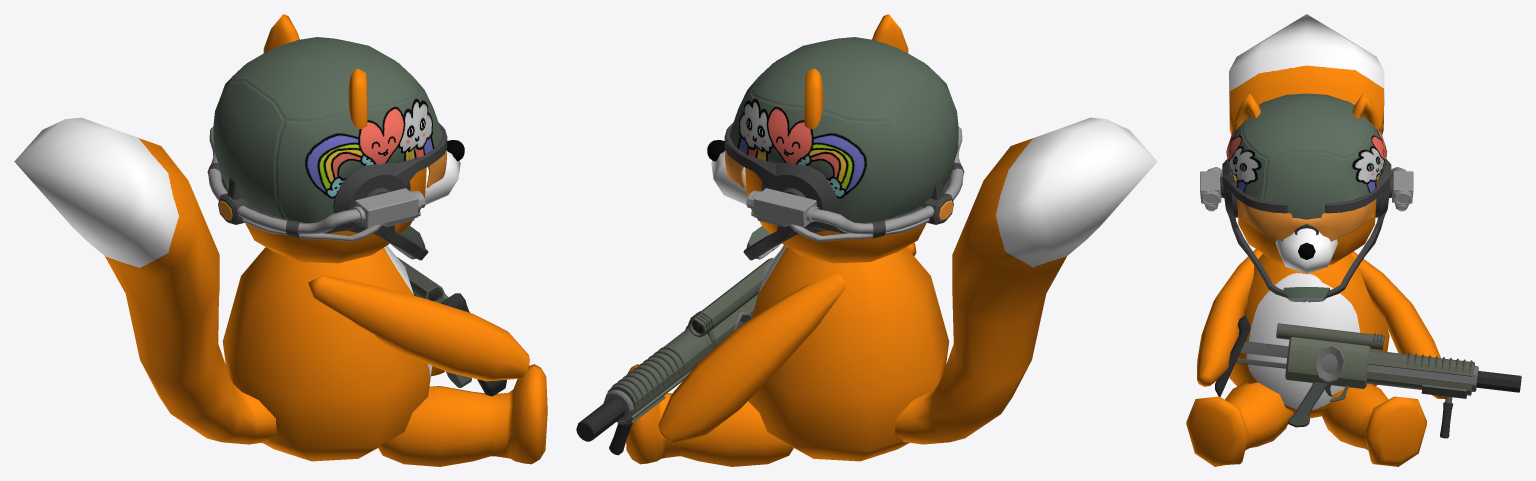
File: TheEverSoSlightlyFantasticMrFox_FluffyArmy.fbx
3 renders of one model, left to right at view 1: azimuth 30°, elevation 25°; view 2: azimuth 150°, elevation 25°; view 3: azimuth 270°, elevation 25°, orthographic. The views are drawn at different scales.
Visible parts, largest first — view 1: pCube28, polySurface45, polySurface48, polySurface40, polySurface42, polySurface98, polySurface118, polySurface99, polySurface95, polySurface100; view 2: pCube28, polySurface45, polySurface48, polySurface46, polySurface118, polySurface39, polySurface98, polySurface100, polySurface95, polySurface99; view 3: pCube28, polySurface118, polySurface48, polySurface45, polySurface42, polySurface39, polySurface40, polySurface46, polySurface98, polySurface95, polySurface99, polySurface100.
Boxes of the visible parts, x1=… form: pCube28: x1=207, y1=37, x2=447, y2=260; polySurface45: x1=14, y1=117, x2=276, y2=444; polySurface48: x1=222, y1=245, x2=432, y2=461; polySurface40: x1=308, y1=275, x2=529, y2=381; polySurface42: x1=378, y1=364, x2=547, y2=466; polySurface98: x1=245, y1=167, x2=426, y2=263; polySurface118: x1=397, y1=257, x2=506, y2=396; polySurface99: x1=348, y1=68, x2=367, y2=129; polySurface95: x1=425, y1=150, x2=460, y2=205; polySurface100: x1=263, y1=14, x2=299, y2=53; pCube28: x1=724, y1=37, x2=964, y2=260; polySurface45: x1=894, y1=117, x2=1157, y2=444; polySurface48: x1=748, y1=245, x2=949, y2=461; polySurface46: x1=658, y1=273, x2=845, y2=443; polySurface118: x1=576, y1=257, x2=773, y2=455; polySurface39: x1=626, y1=364, x2=793, y2=466; polySurface98: x1=745, y1=167, x2=926, y2=263; polySurface100: x1=804, y1=68, x2=823, y2=129; polySurface95: x1=711, y1=150, x2=746, y2=205; polySurface99: x1=872, y1=14, x2=908, y2=53; pCube28: x1=1200, y1=93, x2=1413, y2=302; polySurface118: x1=1215, y1=315, x2=1521, y2=438; polySurface48: x1=1229, y1=253, x2=1389, y2=418; polySurface45: x1=1229, y1=14, x2=1384, y2=134; polySurface42: x1=1186, y1=382, x2=1293, y2=466; polySurface39: x1=1320, y1=383, x2=1426, y2=466; polySurface40: x1=1197, y1=249, x2=1262, y2=386; polySurface46: x1=1351, y1=251, x2=1445, y2=398; polySurface98: x1=1237, y1=198, x2=1376, y2=264; polySurface95: x1=1275, y1=228, x2=1338, y2=273; polySurface99: x1=1234, y1=93, x2=1260, y2=130; polySurface100: x1=1352, y1=93, x2=1379, y2=131.
Bounding box in the file's own units: 126 × 103 × 98.46.
Materials: 3 (3 with a texture image).
